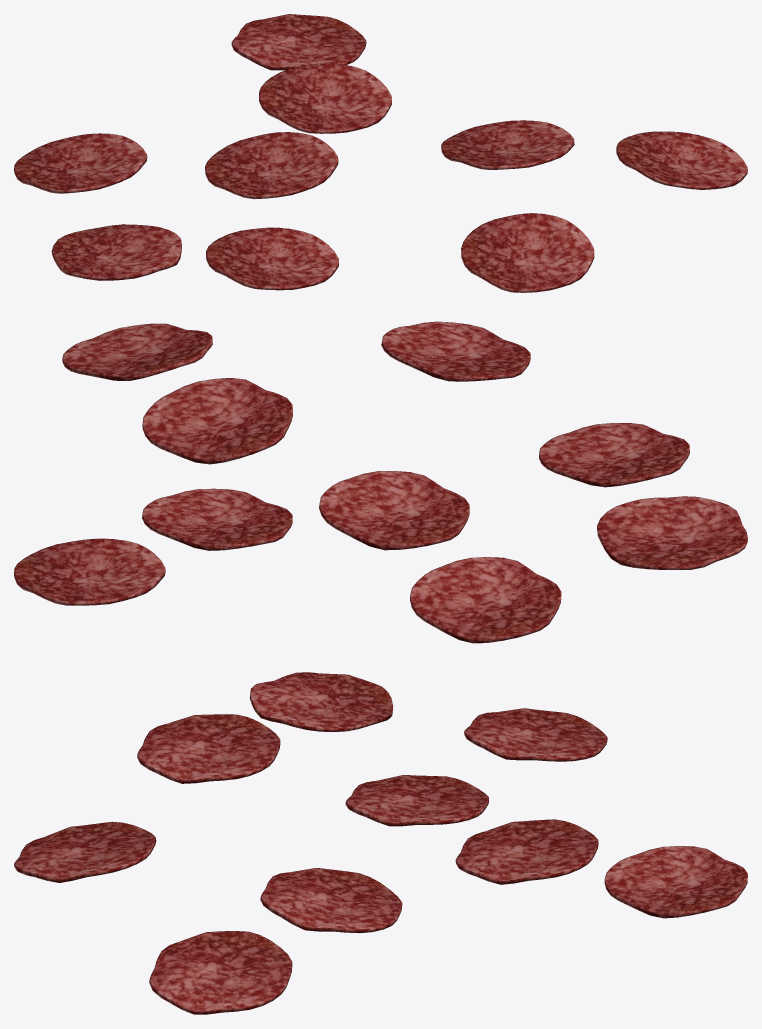
Rendered from Pizza_Salami.fbx.
3 views of the same model, one above another, from view 1: azimuth 30°, elevation 25°; view 2: azimuth 150°, elevation 25°; view 3: azimuth 270°, elevation 25° (orthographic). The views are drawn at different scales.
Parts seen in each view (by area): view 1: 5Salami; view 2: 5Salami; view 3: 5Salami.
Part boxes in pixels (<box>): 5Salami: <box>14,14,747,292</box>; 5Salami: <box>14,321,747,643</box>; 5Salami: <box>14,672,747,1014</box>.
Bounding box in the file's own units: 46.76 × 2.29 × 44.
